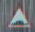Speed Breaker ahead: (3, 1, 34, 29)
